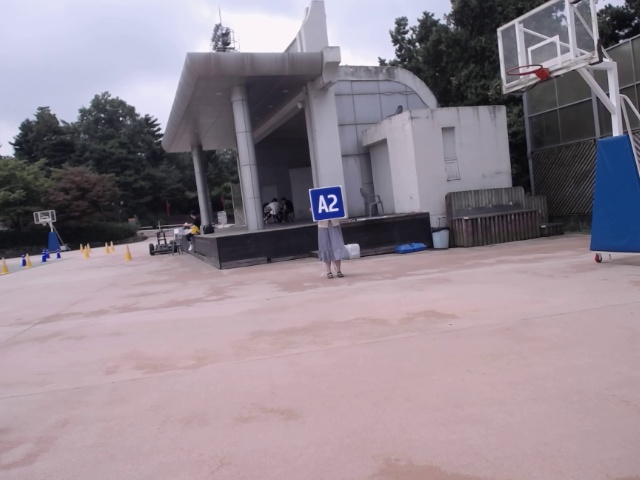delivery_a2: (309, 185, 346, 221)
